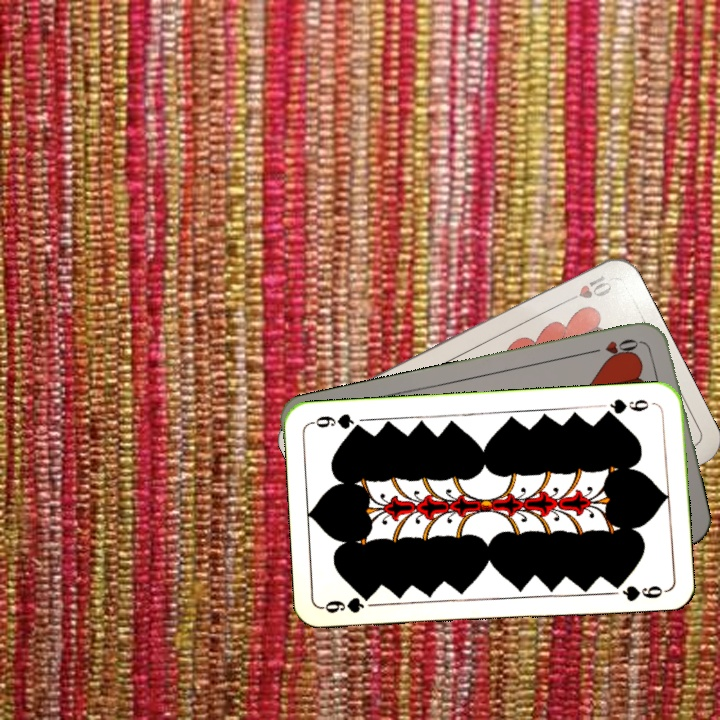G9: (319, 591, 376, 616), (599, 395, 651, 419)
H10: (558, 271, 615, 307)
HO: (586, 334, 645, 363)
